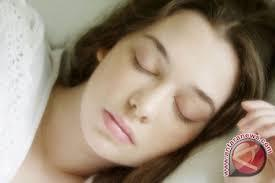Drowsy: (81, 3, 220, 173)
